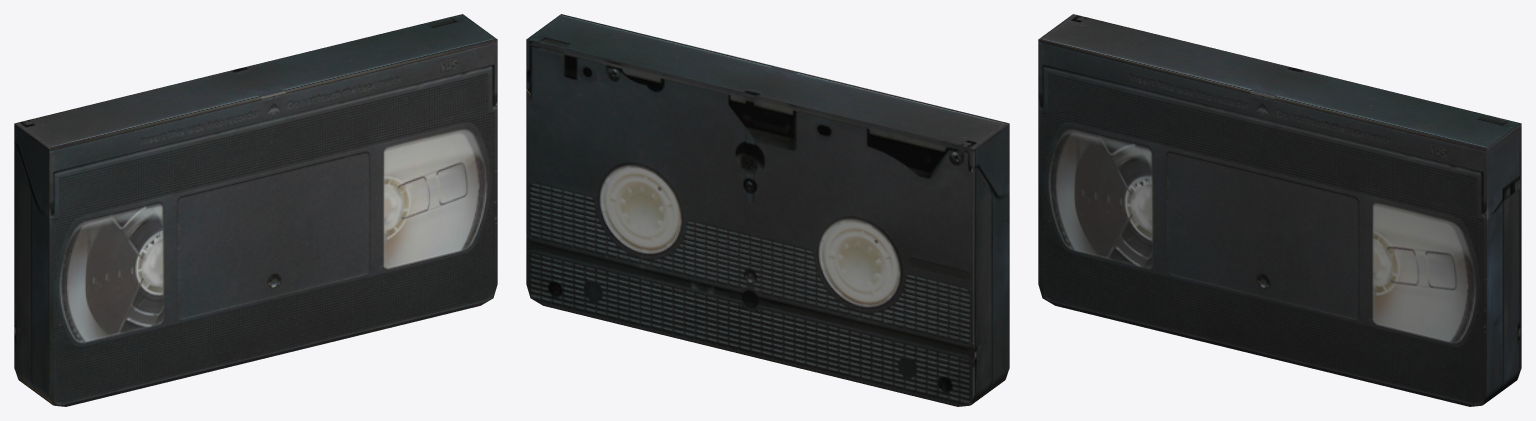
The model's file is vhs_tape.FBX.
3 renders of one model, left to right at view 1: azimuth 30°, elevation 25°; view 2: azimuth 150°, elevation 25°; view 3: azimuth 330°, elevation 25°, orthographic.
Parts seen in each view (by area): view 1: VHSTAPE; view 2: VHSTAPE; view 3: VHSTAPE.
Part boxes in pixels (<box>): VHSTAPE: <box>14,14,497,406</box>; VHSTAPE: <box>526,14,1009,406</box>; VHSTAPE: <box>1038,14,1521,406</box>.
Size of the model in its own units: 403 by 225 by 54.38.
Materials: 1 (1 with a texture image).
